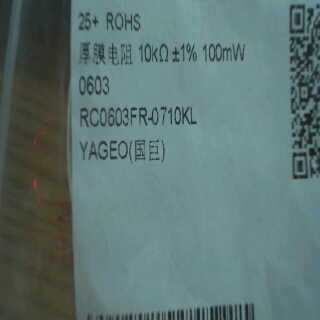10kR: (137, 38, 173, 67)
